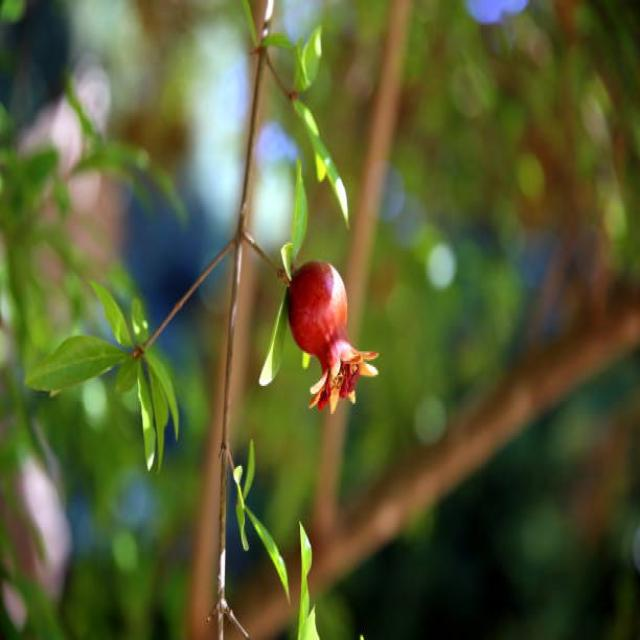Unripe: (286, 259, 380, 415)
